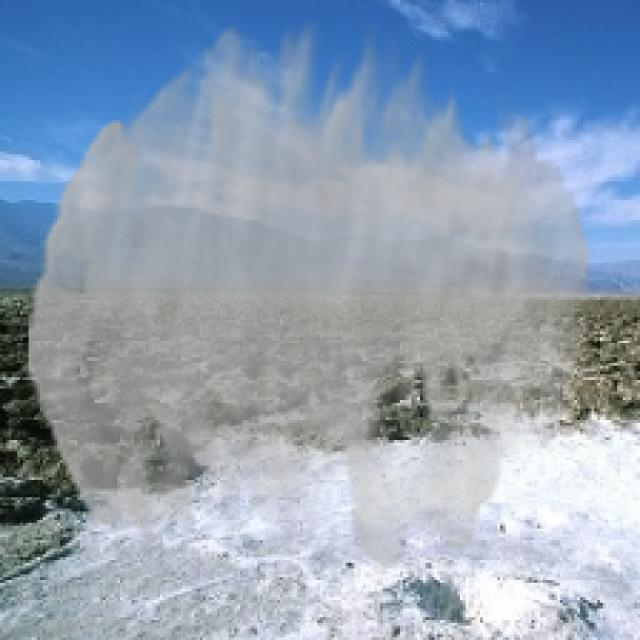smoke: (29, 20, 592, 569)
